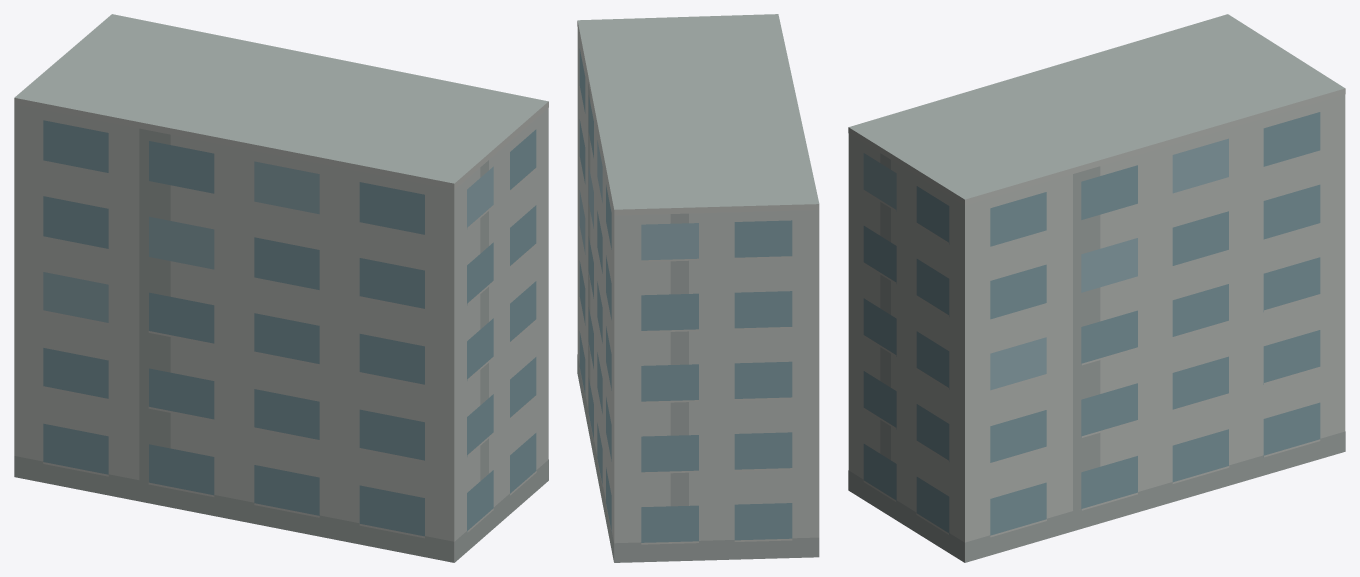
Rendered from survey-upis-33046738.glb.
3 views of the same model, side by side, from view 1: azimuth 30°, elevation 25°; view 2: azimuth 150°, elevation 25°; view 3: azimuth 270°, elevation 25° (orthographic). The views are drawn at different scales.
Visible parts, largest first — view 1: survey-upis-33046738.tmp; view 2: survey-upis-33046738.tmp; view 3: survey-upis-33046738.tmp.
Boxes of the visible parts, box(x1,y1,x2,y2) form: survey-upis-33046738.tmp: box(14, 14, 548, 562); survey-upis-33046738.tmp: box(577, 14, 819, 562); survey-upis-33046738.tmp: box(848, 14, 1345, 562).
Bounding box in the file's own units: 15.9 × 14.5 × 17.98.
